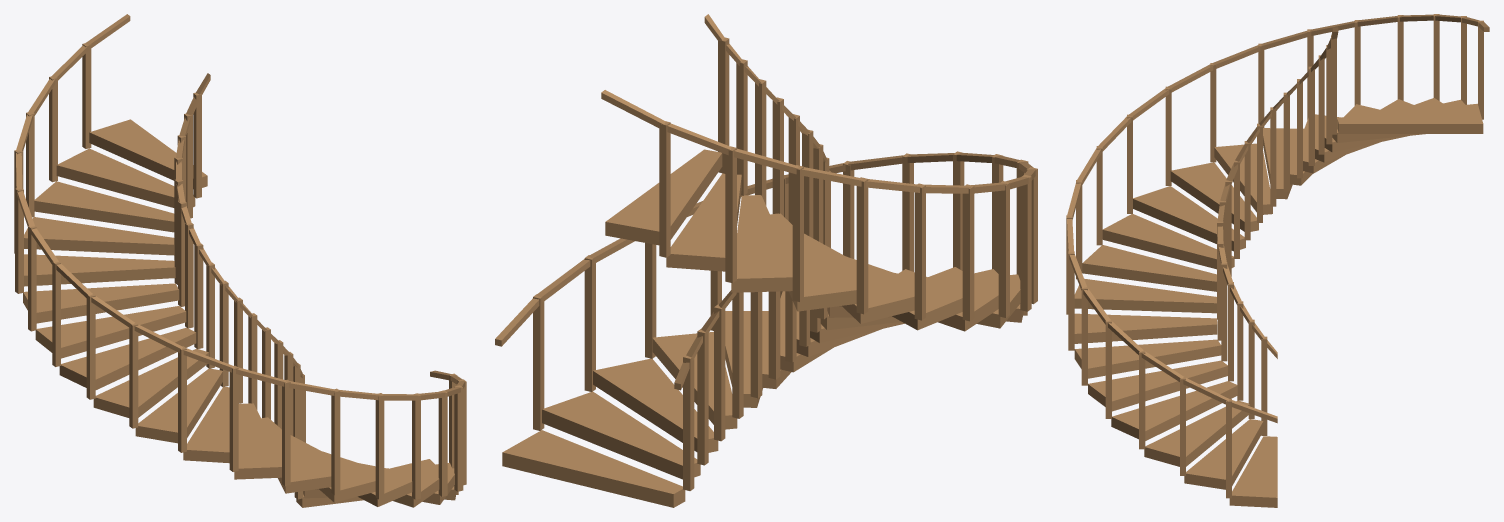
File: yx_spiral_oak.glb
3 views of the same model, side by side, from view 1: azimuth 30°, elevation 25°; view 2: azimuth 150°, elevation 25°; view 3: azimuth 270°, elevation 25° (orthographic). The views are drawn at different scales.
Parts seen in each view (by area): view 1: yx_spiral_oak; view 2: yx_spiral_oak; view 3: yx_spiral_oak.
Boxes of the visible parts, box(x1,y1,x2,y2) form: yx_spiral_oak: box(14, 14, 466, 507); yx_spiral_oak: box(495, 14, 1037, 507); yx_spiral_oak: box(1066, 14, 1489, 507).
Size of the model in its own units: 3.81 by 3.91 by 3.81.
